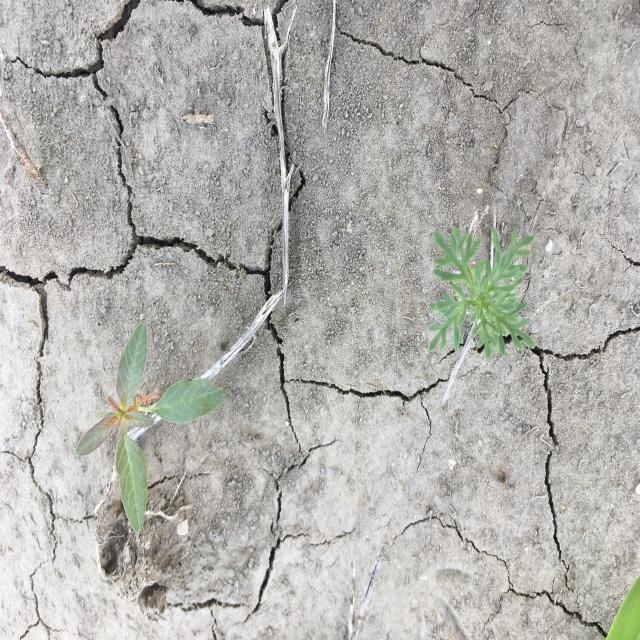Ragweed: (425, 223, 537, 361)
Waterhemp: (74, 320, 228, 534)
